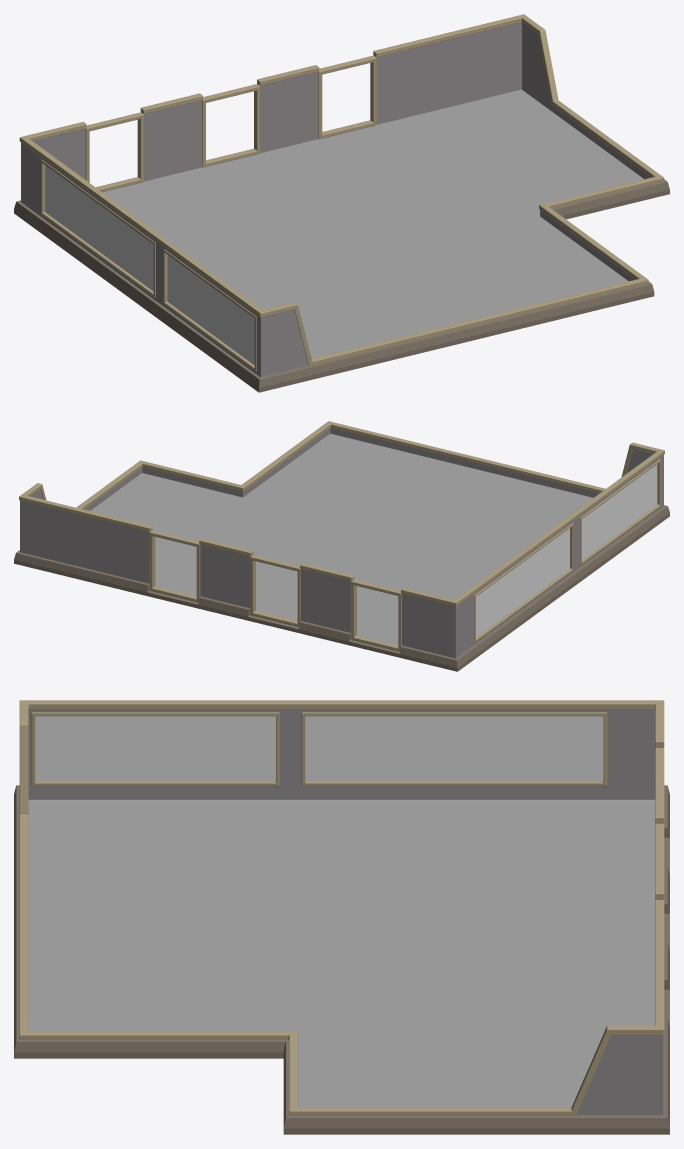
Rendered from Loca.fbx.
The picture shows the model from 3 angles, top to bottom: view 1: azimuth 30°, elevation 25°; view 2: azimuth 150°, elevation 25°; view 3: azimuth 270°, elevation 25°; orthographic projection. The views are drawn at different scales.
Visible parts, largest first — view 1: building wall, building wall border; view 2: building wall, building wall border; view 3: building wall, building wall border.
Part boxes in pixels (left/top/right/bottom): building wall: left=14, top=22, right=669, bottom=392; building wall border: left=19, top=14, right=664, bottom=371; building wall: left=14, top=428, right=669, bottom=671; building wall border: left=19, top=421, right=664, bottom=651; building wall: left=14, top=709, right=669, bottom=1134; building wall border: left=19, top=700, right=664, bottom=1115.
Size of what is drawn, in the model's own units: 1760 by 253 by 1460.
